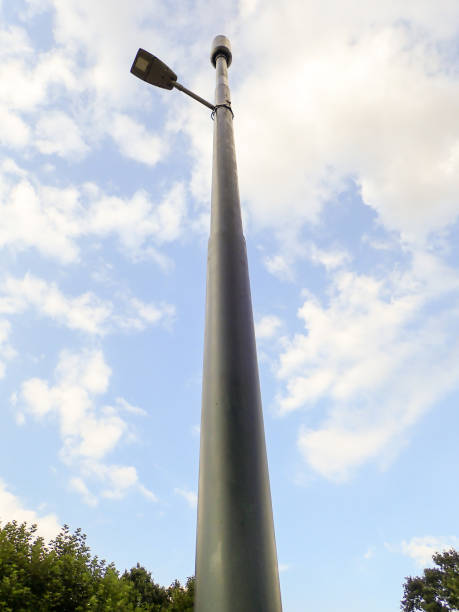light_pole: (197, 51, 279, 612)
